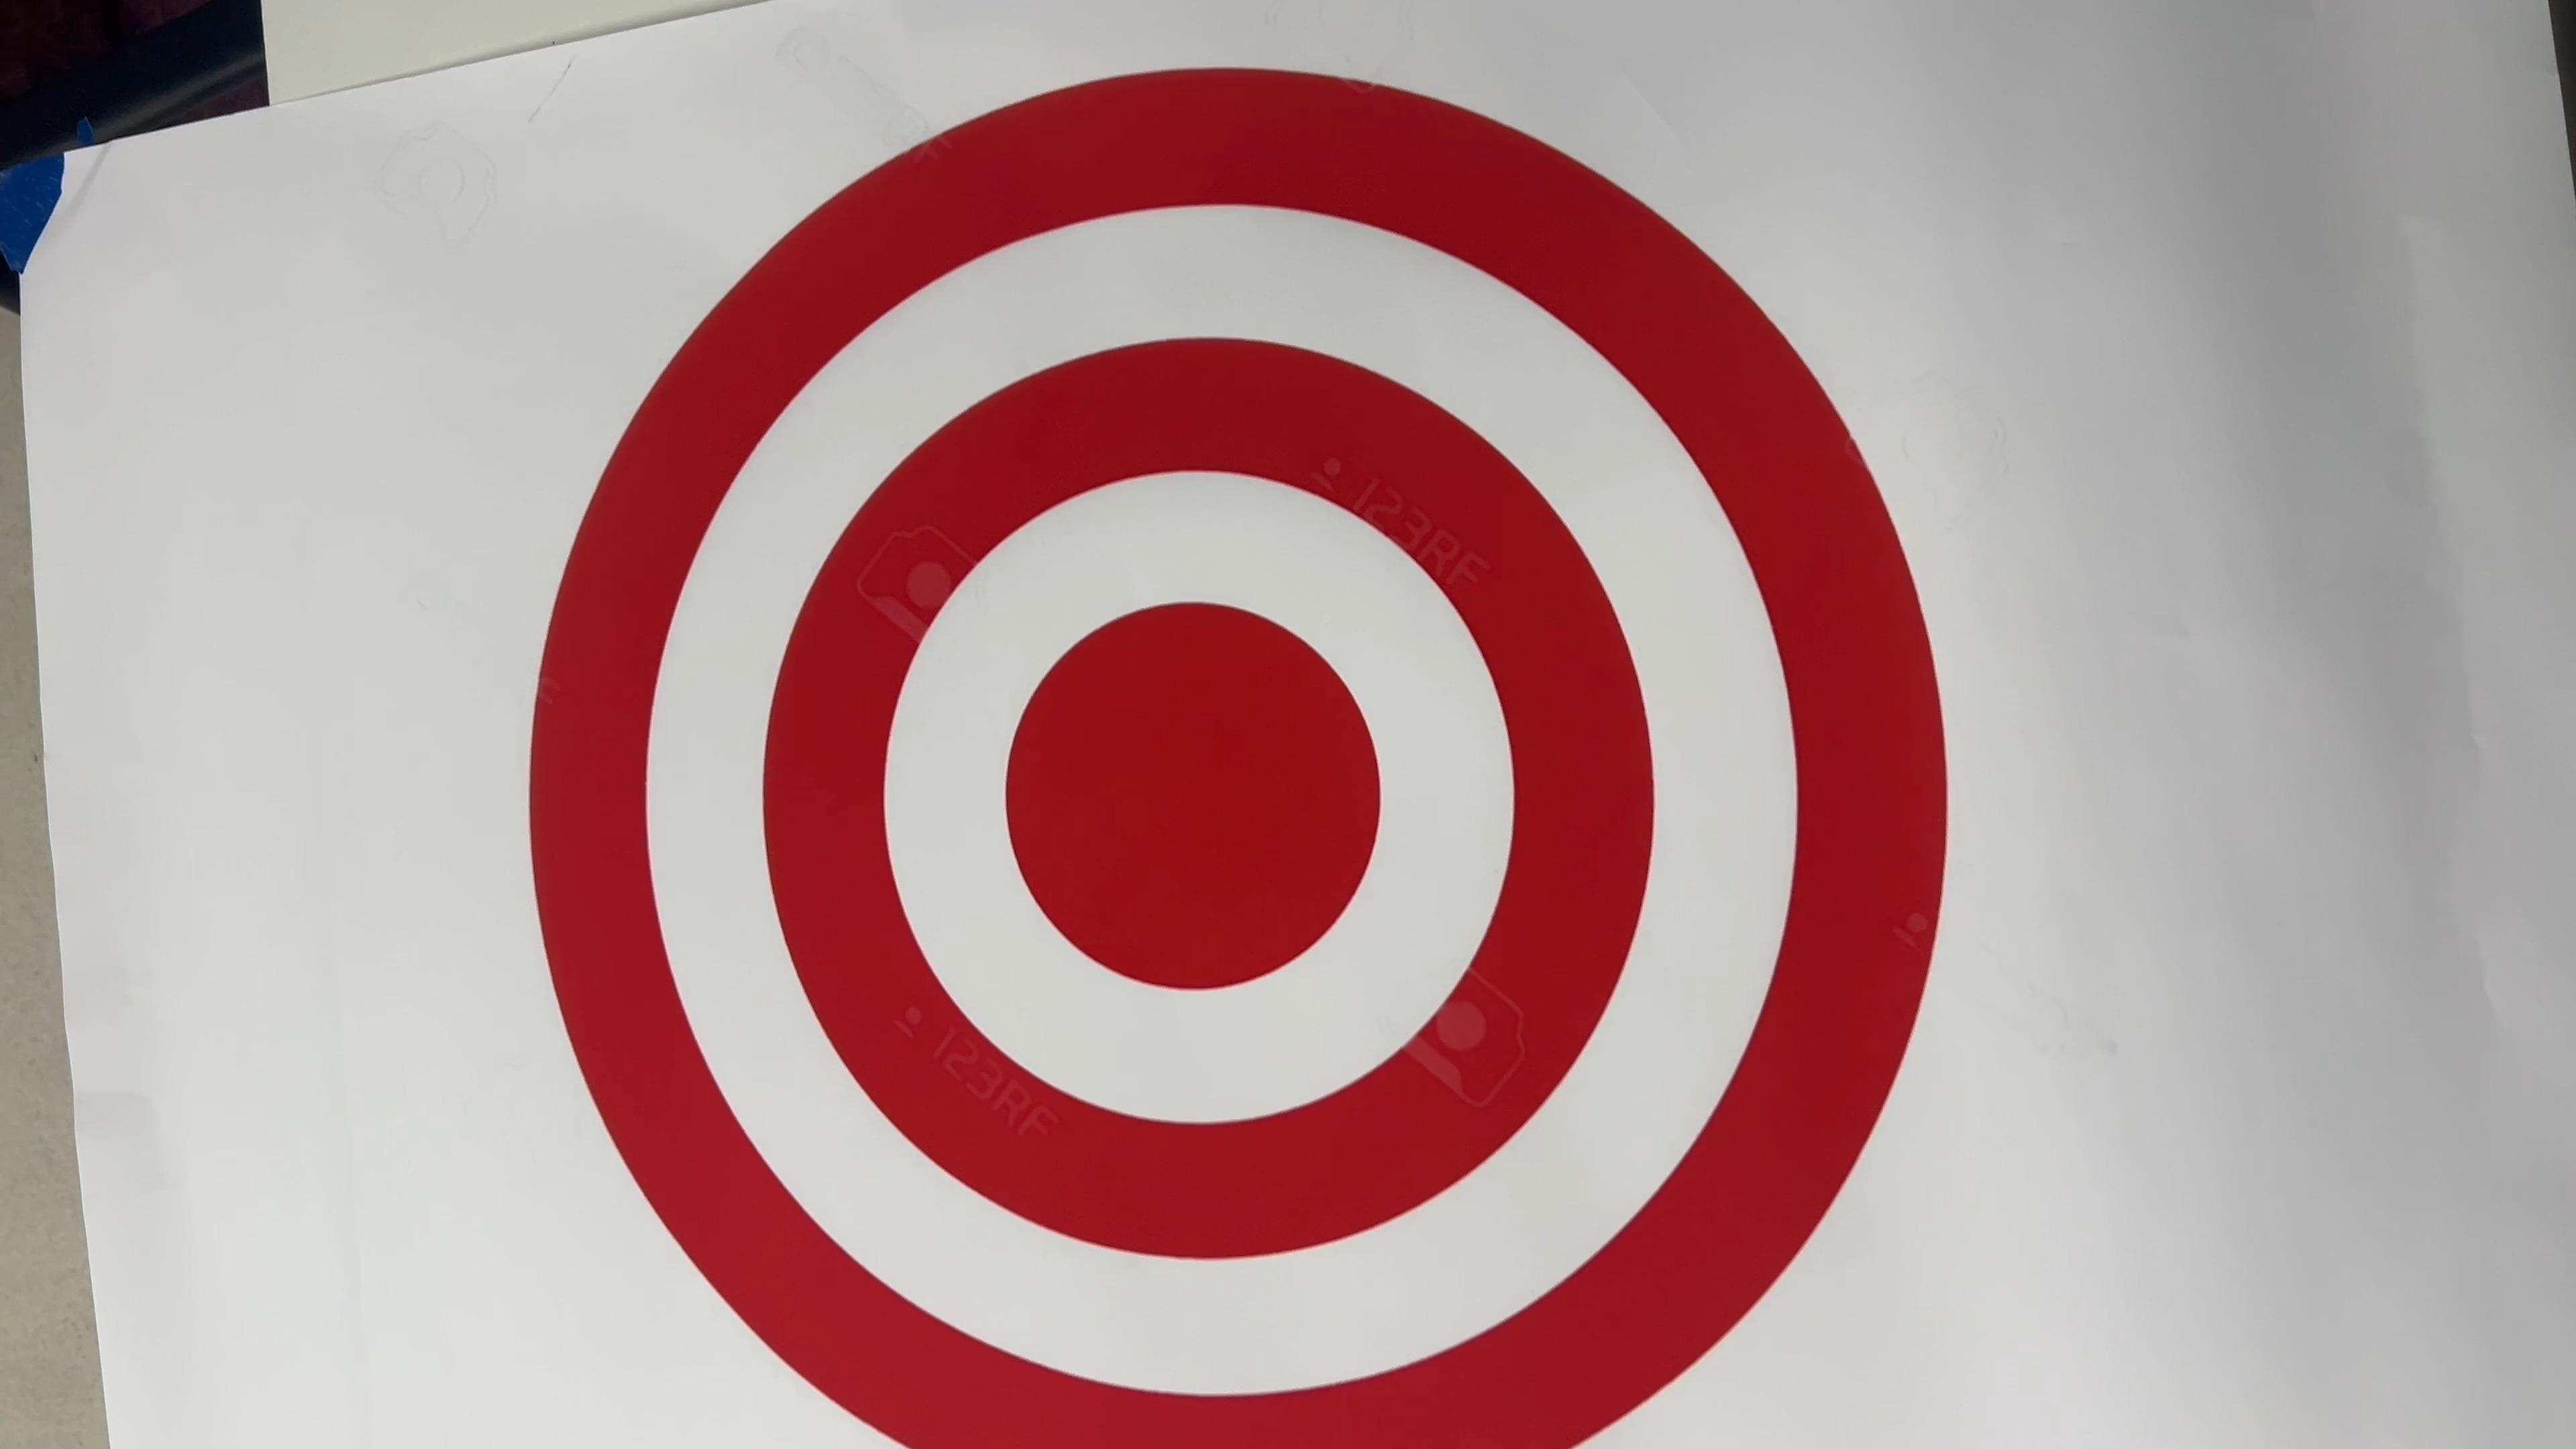target_red: (515, 5, 1982, 1449)
